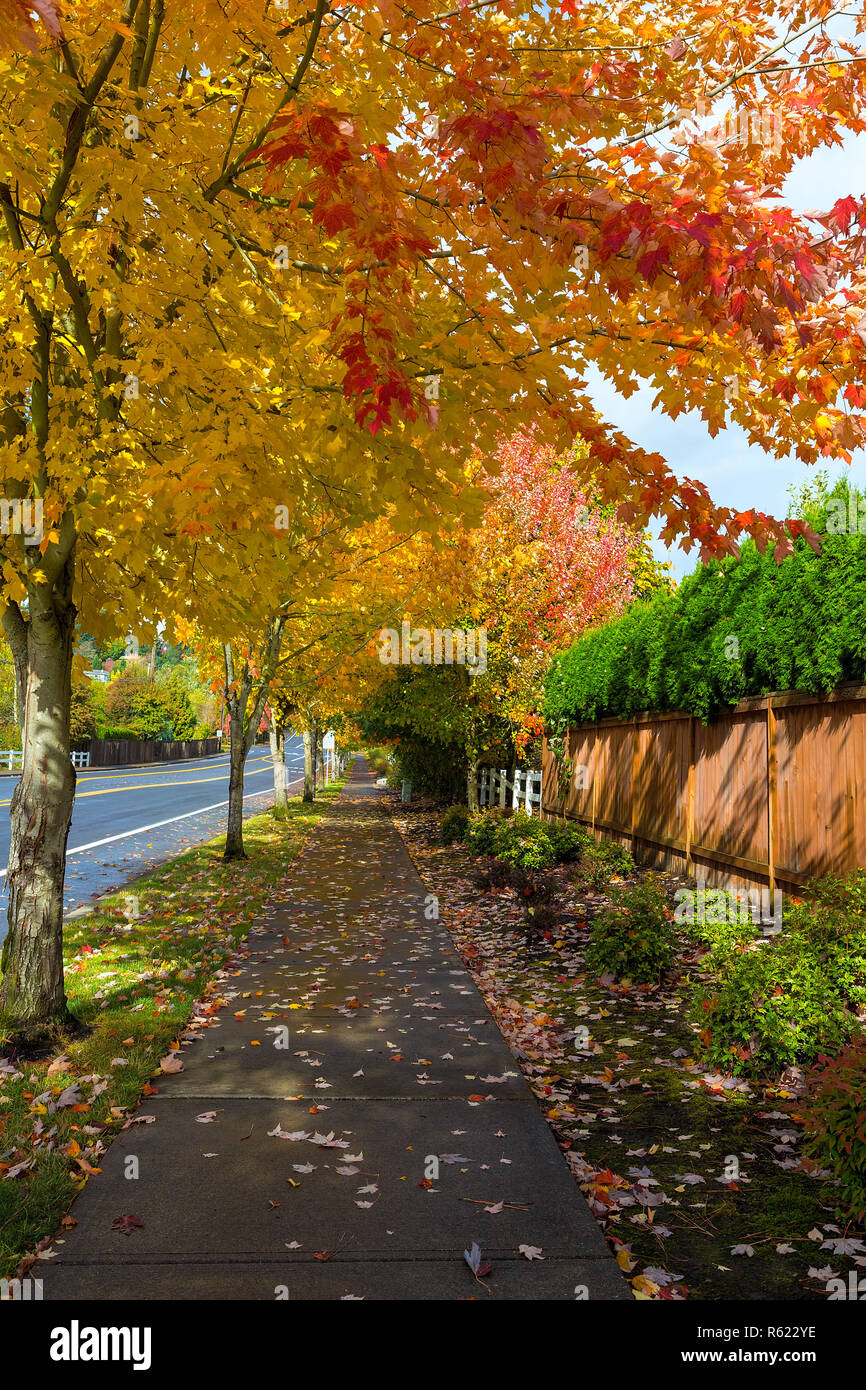Tree: (2, 12, 297, 1087), (89, 131, 349, 875), (250, 375, 420, 804)
